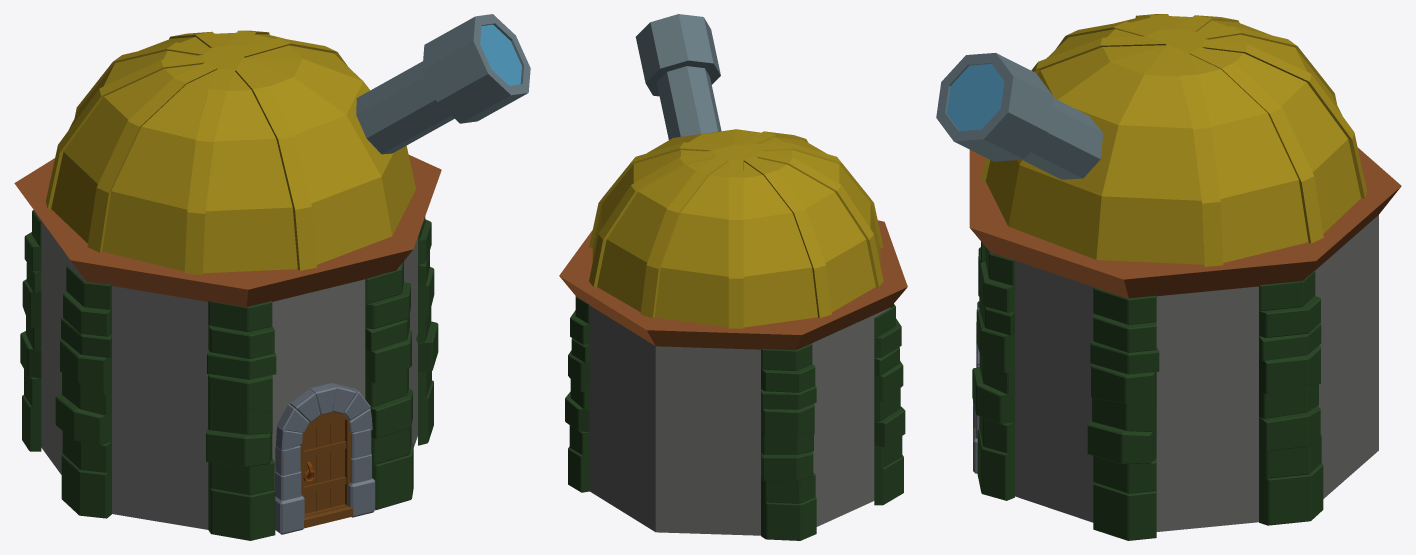
File: wizard_shop.glb
The picture shows the model from 3 angles, left to right: view 1: azimuth 30°, elevation 25°; view 2: azimuth 150°, elevation 25°; view 3: azimuth 270°, elevation 25°; orthographic projection. The views are drawn at different scales.
Visible parts, largest first — view 1: Wizard_Shop; view 2: Wizard_Shop; view 3: Wizard_Shop.
Boxes of the visible parts, left/top/right/bottom form: Wizard_Shop: left=14, top=14, right=530, bottom=540; Wizard_Shop: left=559, top=14, right=907, bottom=540; Wizard_Shop: left=936, top=14, right=1401, bottom=540.
Bounding box in the file's own units: 9.78 × 10.99 × 9.72.
